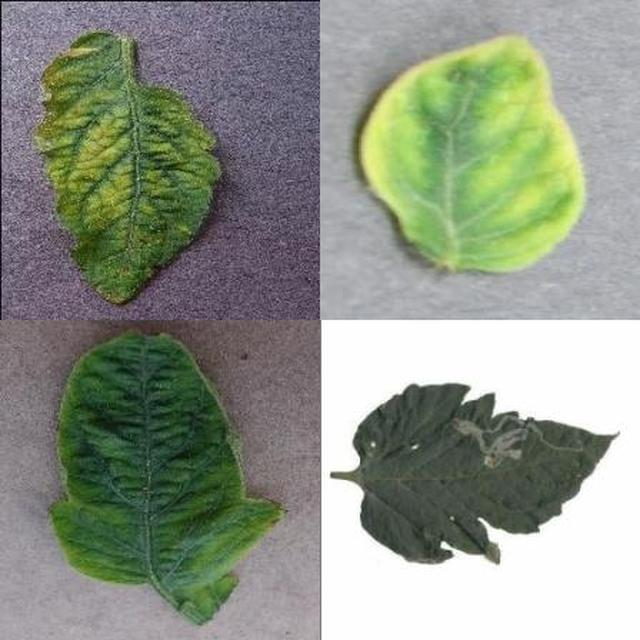Mosaic Virus Leaf: (185, 218, 640, 640)
